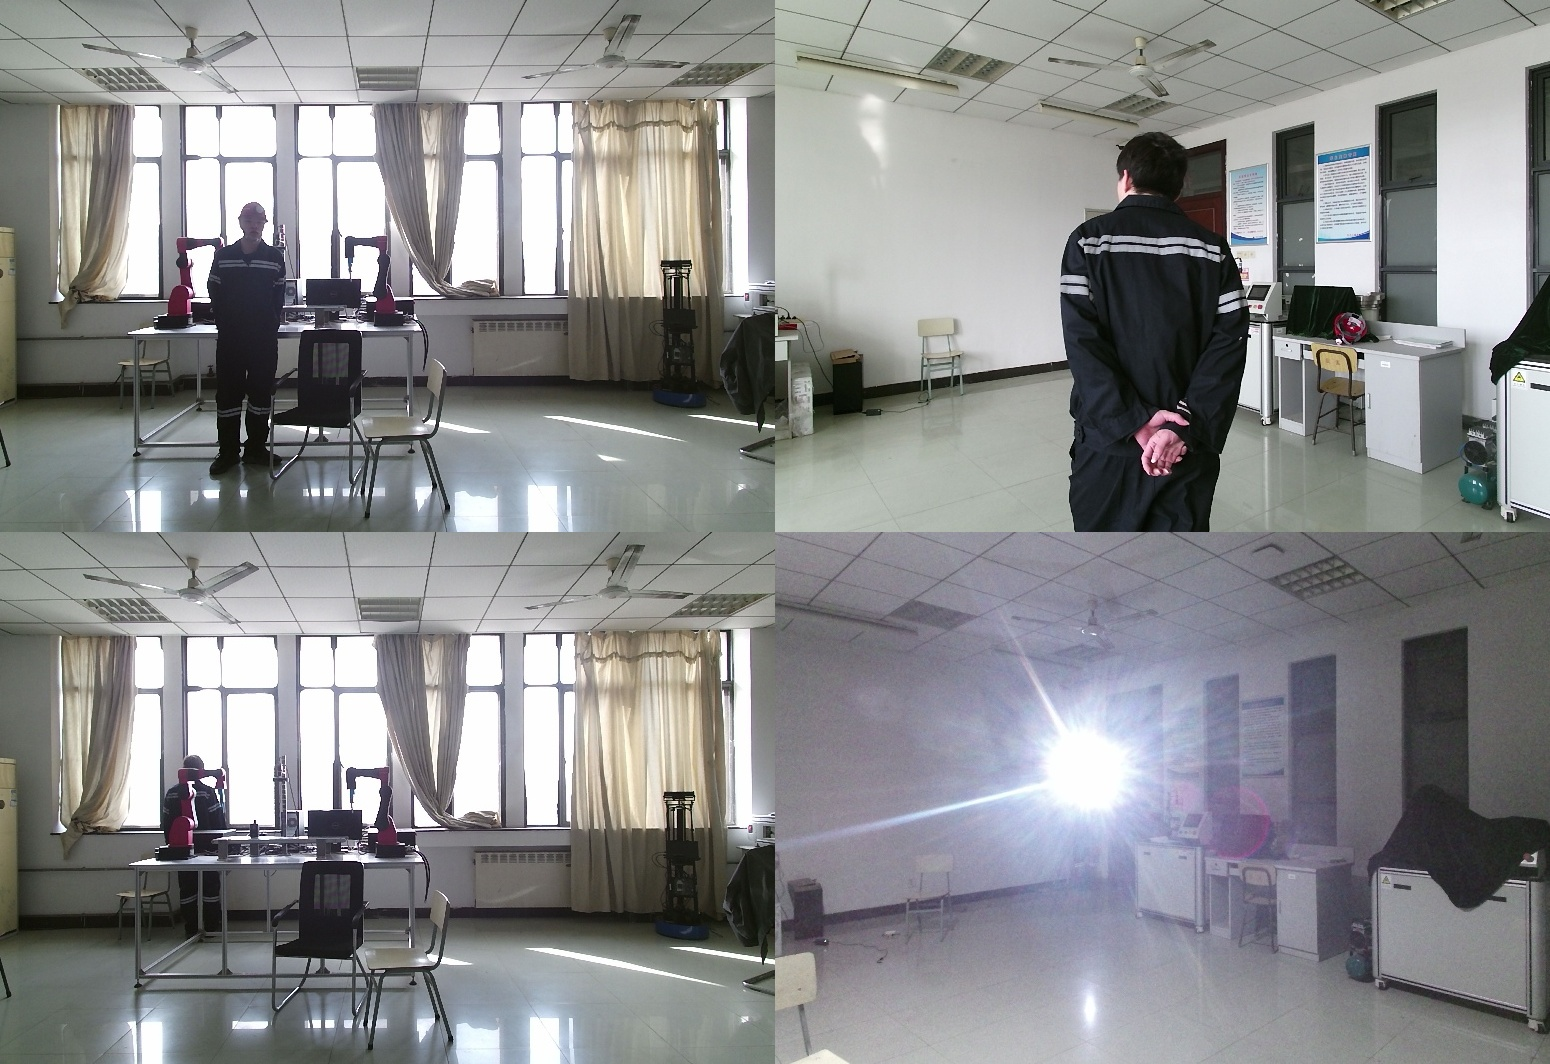person: (1063, 132, 1269, 532), (206, 202, 290, 479), (163, 754, 230, 946), (1061, 768, 1107, 892)
